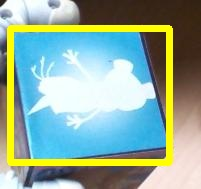Blue2: (10, 28, 169, 162)
